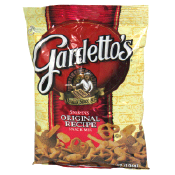grozi_3: (24, 5, 150, 170)
